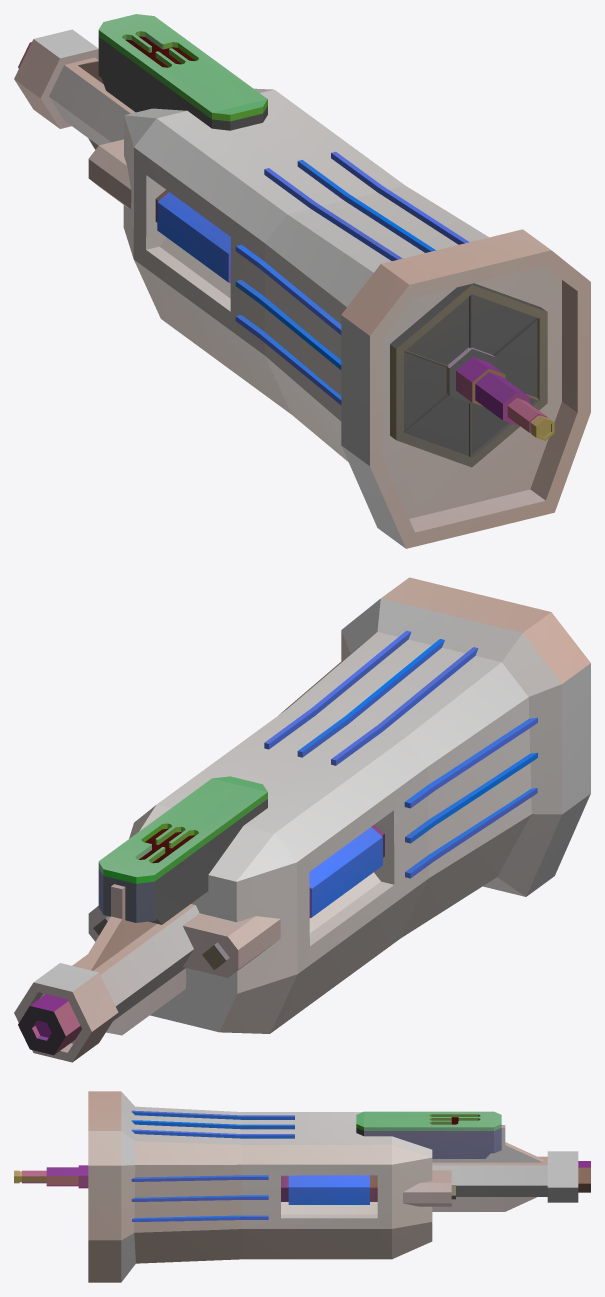
File: GearboxLvl2.fbx
3 renders of one model, top to bottom at view 1: azimuth 30°, elevation 25°; view 2: azimuth 150°, elevation 25°; view 3: azimuth 270°, elevation 25°, orthographic. The views are drawn at different scales.
Parts seen in each view (by area): view 1: gearbox_lvl2; view 2: gearbox_lvl2; view 3: gearbox_lvl2.
Part boxes in pixels (<box>): gearbox_lvl2: <box>14,14,590,548</box>; gearbox_lvl2: <box>14,577,590,1062</box>; gearbox_lvl2: <box>14,1091,590,1282</box>.
Size of the model in its own units: 0.5945 by 0.6764 by 2.35.
